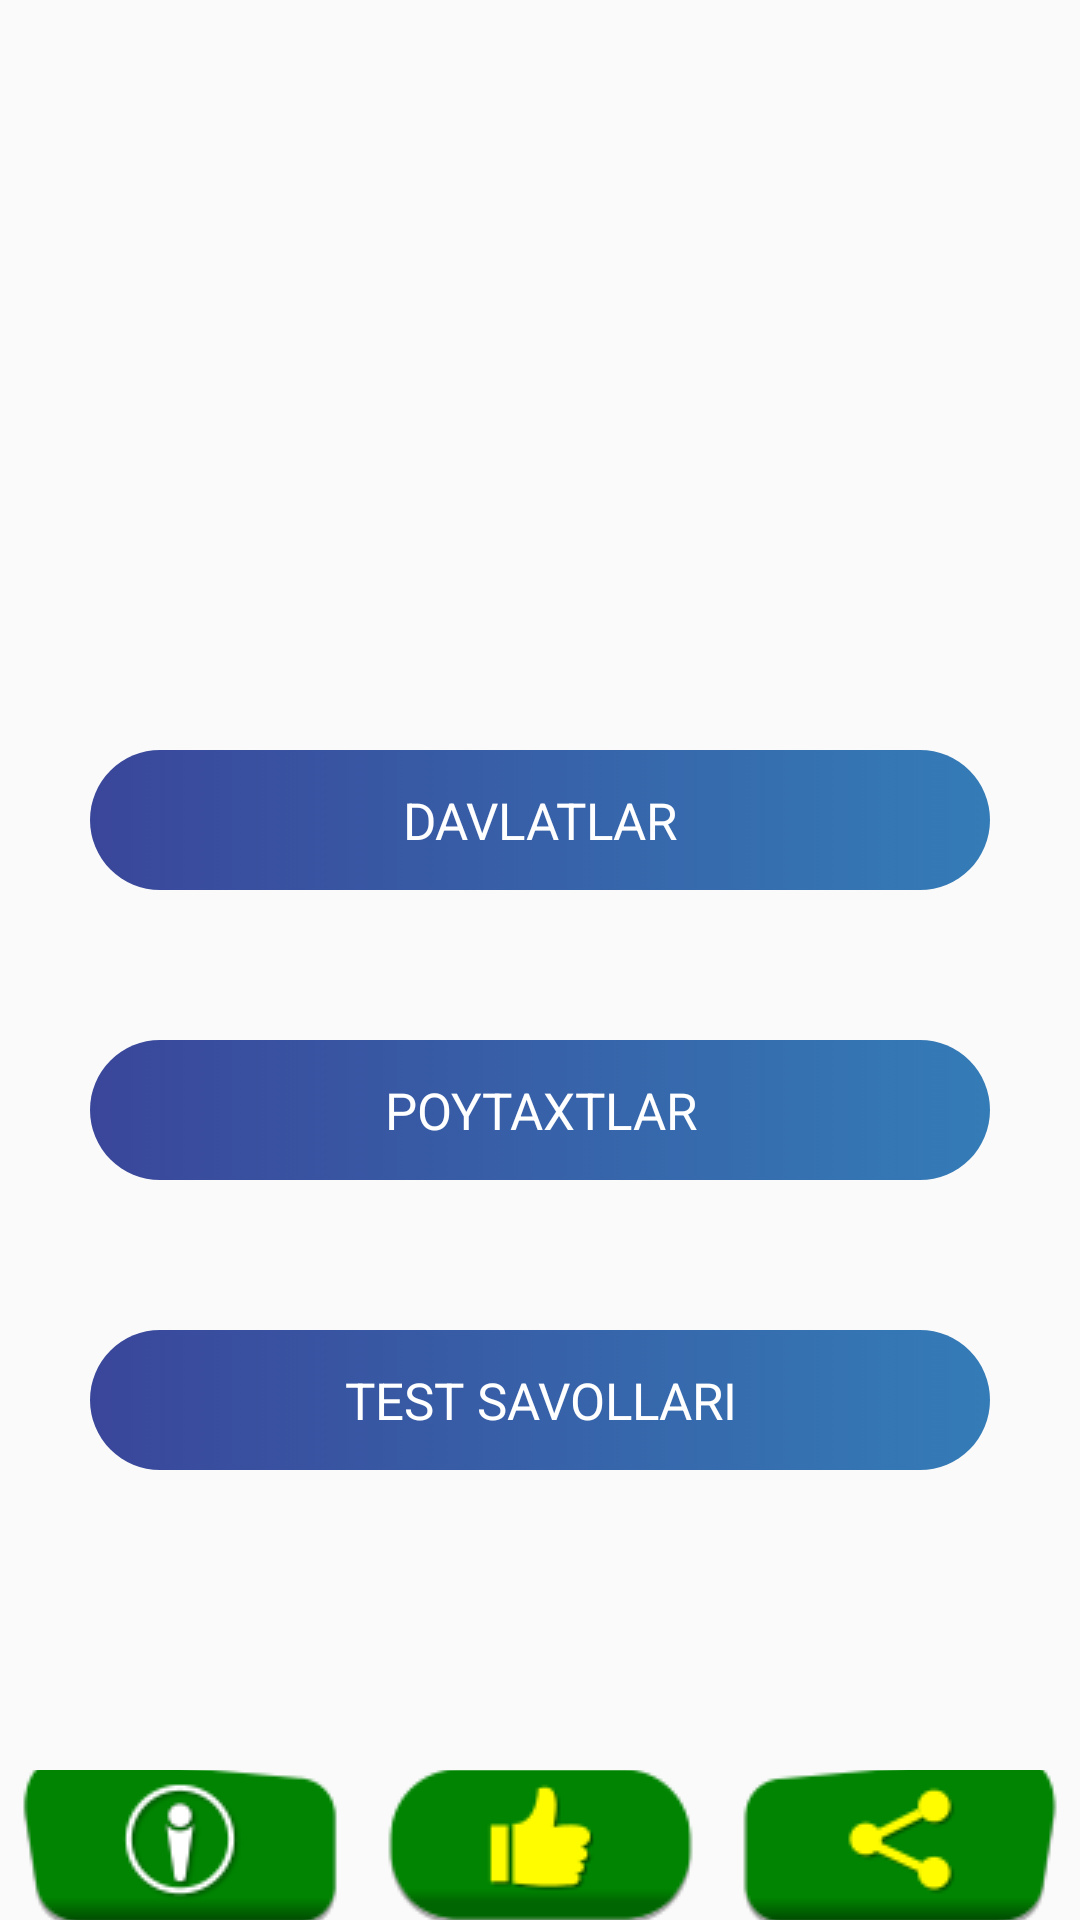

Where to tap for icons on this 1080w x 1920h app screen, as (x=x, y=y):
home rate: (x=540, y=1845)
home share: (x=900, y=1845)
